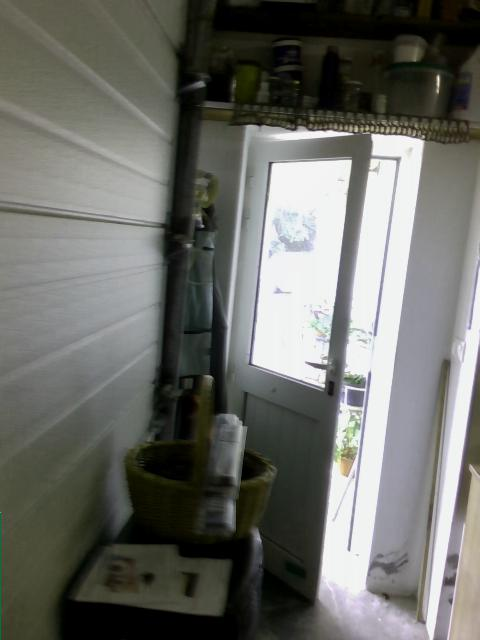semi_door: (242, 130, 409, 602)
